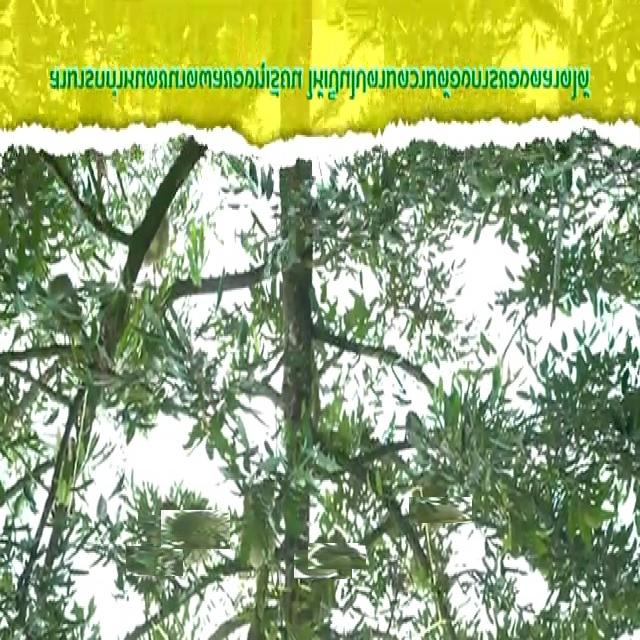durian: (168, 502, 223, 556), (240, 513, 274, 580), (147, 506, 195, 553), (300, 542, 344, 587), (132, 539, 176, 583), (418, 488, 462, 532), (315, 534, 358, 577)
